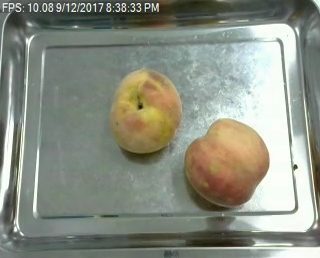Peach: (184, 116, 271, 207), (109, 68, 182, 154)
